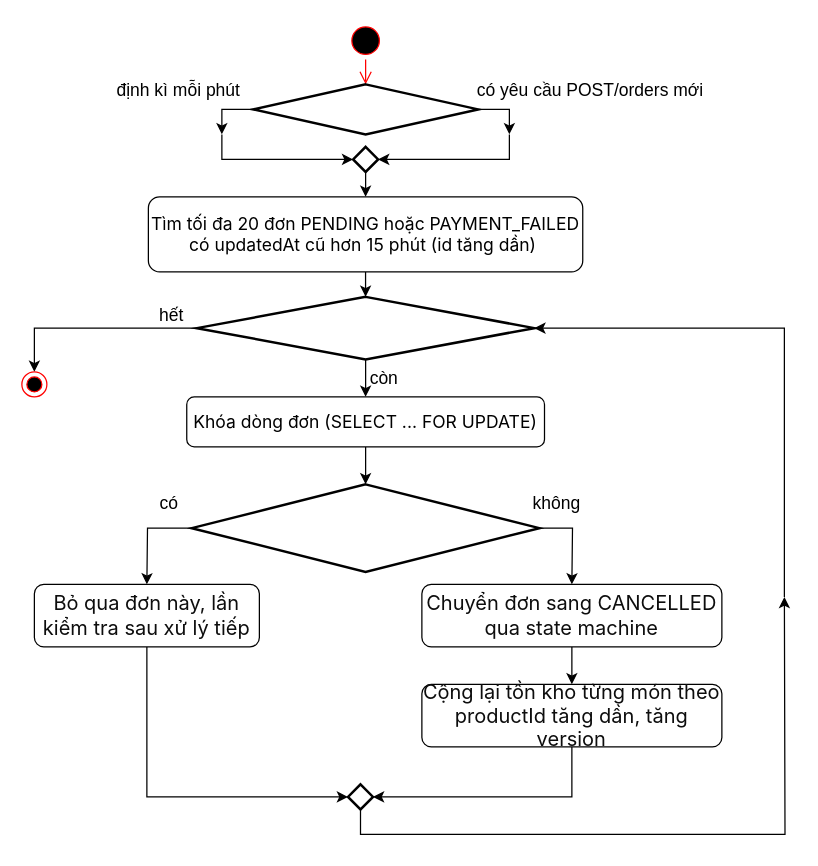
Some shapes in this 818 by 866 pixel diagram are drawn without their labels. Each missing label, with the centre of its shape:
"Còn đơn trong danh sách?" belongs at point 365,327.
"Có thanh toán PROCESSING hoặc trạng thái đã đổi?" belongs at point 365,527.
"Nguồn kích hoạt?" belongs at point 365,108.
